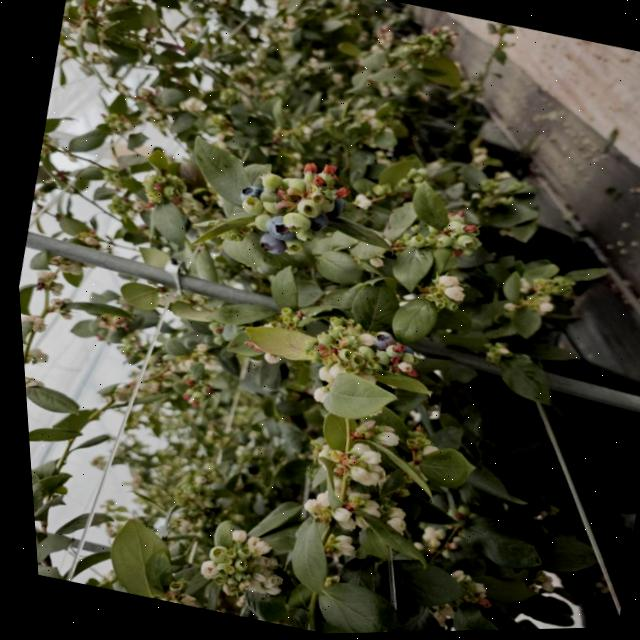RipeBlueBerry: (259, 212, 296, 244), (253, 232, 286, 258), (366, 329, 394, 353), (235, 183, 261, 205)
UnripeBlueBerry: (276, 209, 312, 236), (290, 197, 319, 221), (254, 170, 282, 193), (236, 195, 262, 217), (200, 543, 224, 564), (379, 342, 403, 360)
